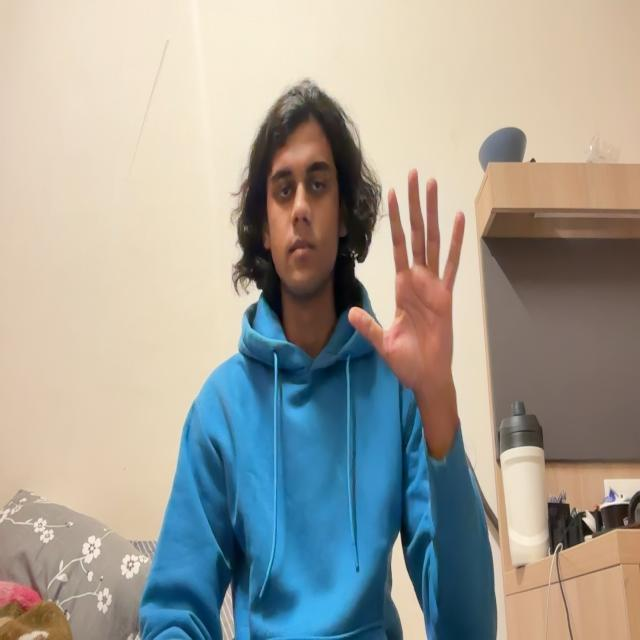Hello: (339, 156, 483, 391)
